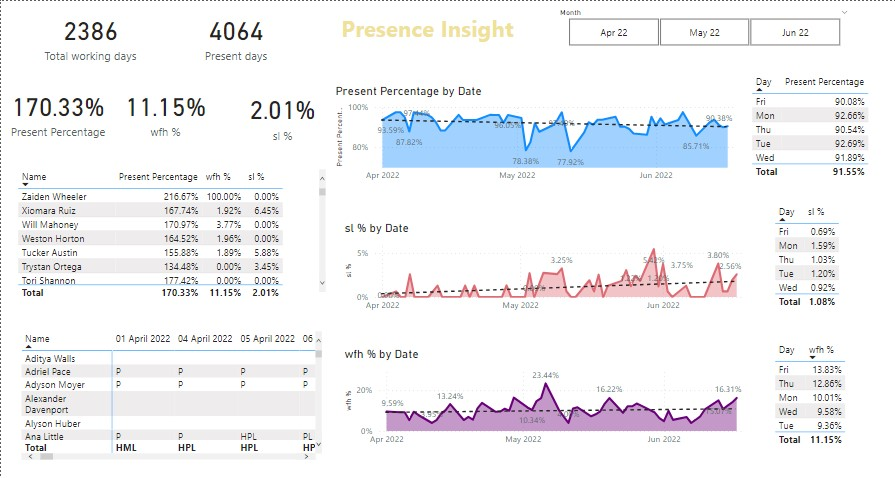

This screenshot's page, from the dashboard's own definition file:
{"tool":"powerbi","page":{"name":"Page 1","canvas":[1280,720],"ordinal":0},"visuals":[{"type":"card","fields":{"Values":["Final Data.Toatal working days"]},"box":[11.4,0,232.9,100],"z":0},{"type":"card","fields":{"Values":["Final Data.Present days"]},"box":[214.3,0,242.9,100],"z":1000},{"type":"card","fields":{"Values":["Final Data.Present Percentage"]},"box":[0,112.9,162.9,91.4],"z":2000},{"type":"slicer","fields":{"Values":["Final Data.Month"]},"box":[785.7,4.3,437.1,65.7],"z":3000},{"type":"card","fields":{"Values":["Final Data.wfh %"]},"box":[162.9,112.9,144.3,91.4],"z":3001},{"type":"card","fields":{"Values":["Final Data.sl %"]},"box":[307.1,122.9,190,81.4],"z":3002},{"type":"tableEx","fields":{"Values":["Final Data.Name","Final Data.Present Percentage","Final Data.wfh %","Final Data.sl %"]},"box":[18.6,235.7,450,194.3],"z":3003},{"type":"textbox","box":[467.1,11.4,284.3,58.6],"z":3004},{"type":"pivotTable","fields":{"Rows":["Final Data.Name"],"Values":["Min(Final Data.Value)"],"Columns":["Final Data.Date"]},"box":[24.3,467.1,438.6,192.9],"z":3005},{"type":"tableEx","fields":{"Values":["Final Data.Day","Final Data.Present Percentage"]},"box":[1067.1,100,187.1,167.1],"z":3006},{"type":"tableEx","fields":{"Values":["Final Data.Day","Final Data.wfh %"]},"box":[1100,482.9,137.1,161.4],"z":3007},{"type":"tableEx","fields":{"Values":["Final Data.Day","Final Data.sl %"]},"box":[1100,285.7,154.3,167.1],"z":3008},{"type":"areaChart","fields":{"Y":["Final Data.Present Percentage"],"Category":["Final Data.Date"]},"box":[472.9,118.6,594.3,148.6],"z":3009},{"type":"areaChart","fields":{"Category":["Final Data.Date"],"Y":["Final Data.sl %"]},"box":[485.7,314.3,594.3,138.6],"z":3010},{"type":"areaChart","fields":{"Y":["Final Data.wfh %"],"Category":["Final Data.Date"]},"box":[485.7,494.3,594.3,150],"z":3011}]}

Visuals, with their boxes on the page's 1280x720 design canvas (x1, y1, x2, y2). These are canvas units, not pixel positions in the 895x478 screenshot, which may show the page scaled, cropped or inside an application window:
card - Final Data.Toatal working days: BBox(11, 0, 244, 100)
card - Final Data.Present days: BBox(214, 0, 457, 100)
card - Final Data.Present Percentage: BBox(0, 113, 163, 204)
slicer - Final Data.Month: BBox(786, 4, 1223, 70)
card - Final Data.wfh %: BBox(163, 113, 307, 204)
card - Final Data.sl %: BBox(307, 123, 497, 204)
tableEx - Final Data.Name x Final Data.Present Percentage: BBox(19, 236, 469, 430)
textbox: BBox(467, 11, 751, 70)
pivotTable - Final Data.Name x Min(Final Data.Value): BBox(24, 467, 463, 660)
tableEx - Final Data.Day x Final Data.Present Percentage: BBox(1067, 100, 1254, 267)
tableEx - Final Data.Day x Final Data.wfh %: BBox(1100, 483, 1237, 644)
tableEx - Final Data.Day x Final Data.sl %: BBox(1100, 286, 1254, 453)
areaChart - Final Data.Present Percentage x Final Data.Date: BBox(473, 119, 1067, 267)
areaChart - Final Data.Date x Final Data.sl %: BBox(486, 314, 1080, 453)
areaChart - Final Data.wfh % x Final Data.Date: BBox(486, 494, 1080, 644)
